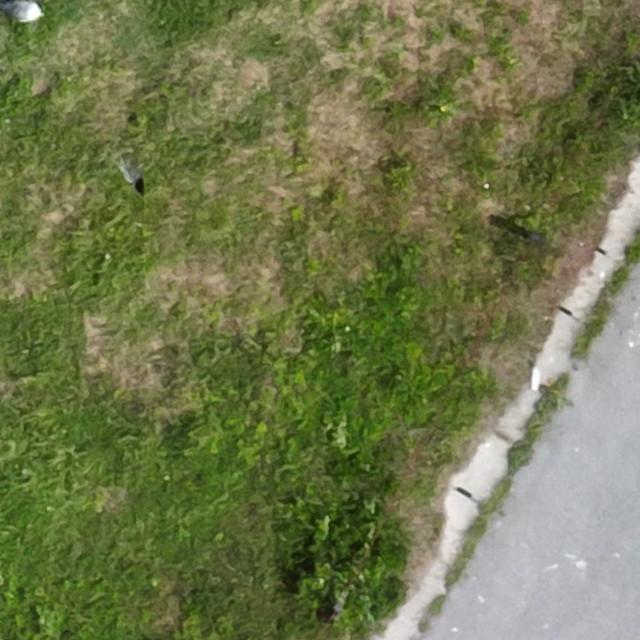umineko: (4, 2, 41, 20)
